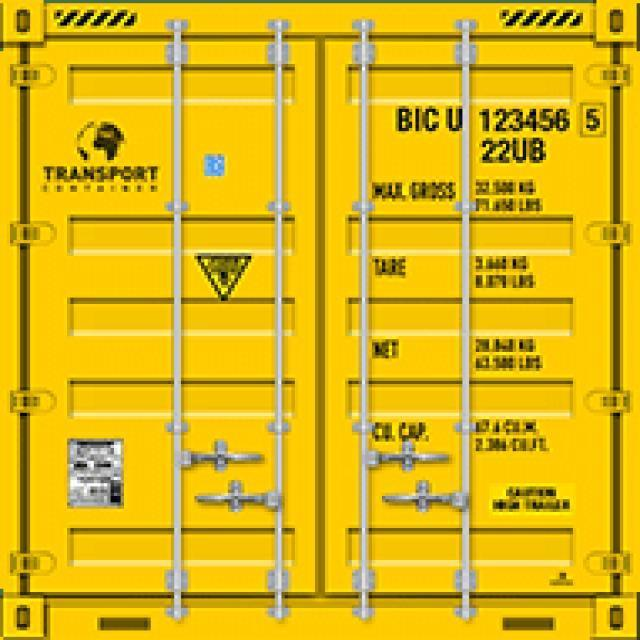ISO: (484, 138, 548, 162)
container_number: (396, 102, 596, 136)
